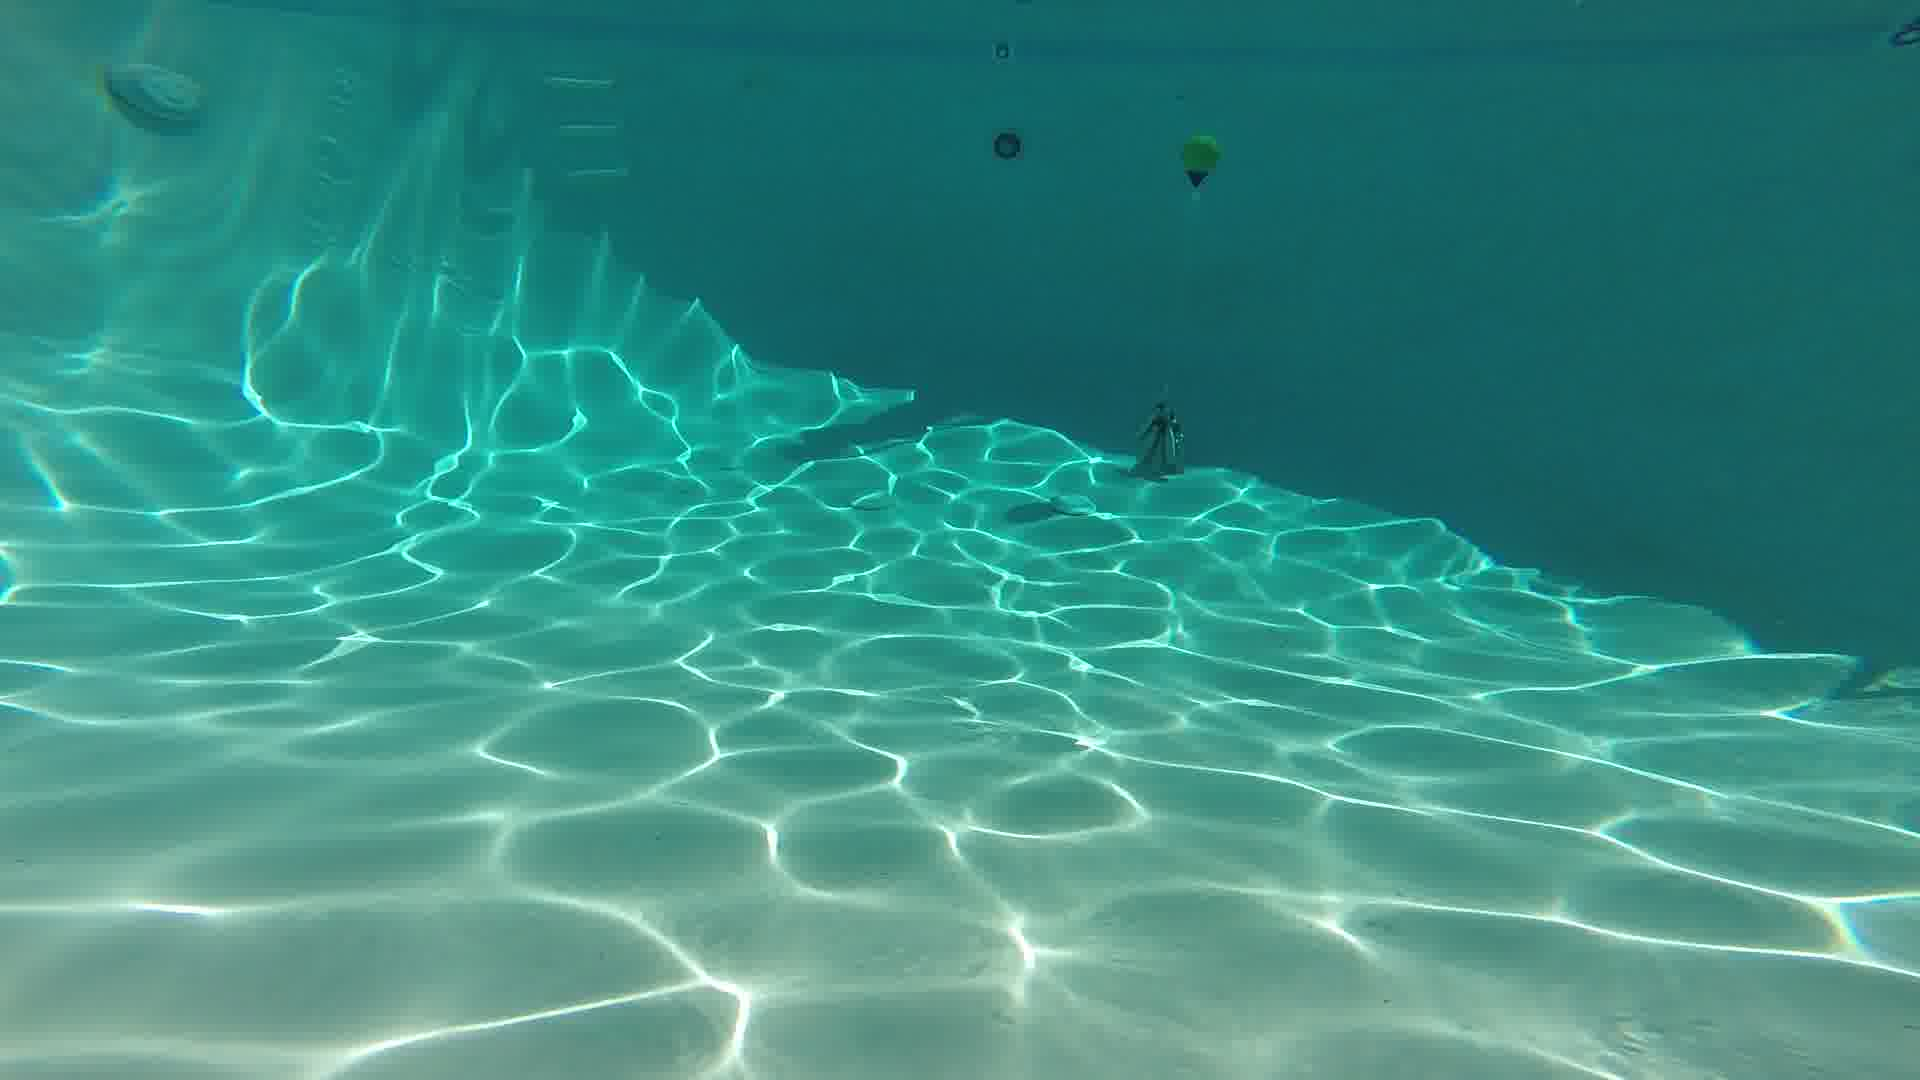yellow_buoy: (1180, 133, 1220, 189)
